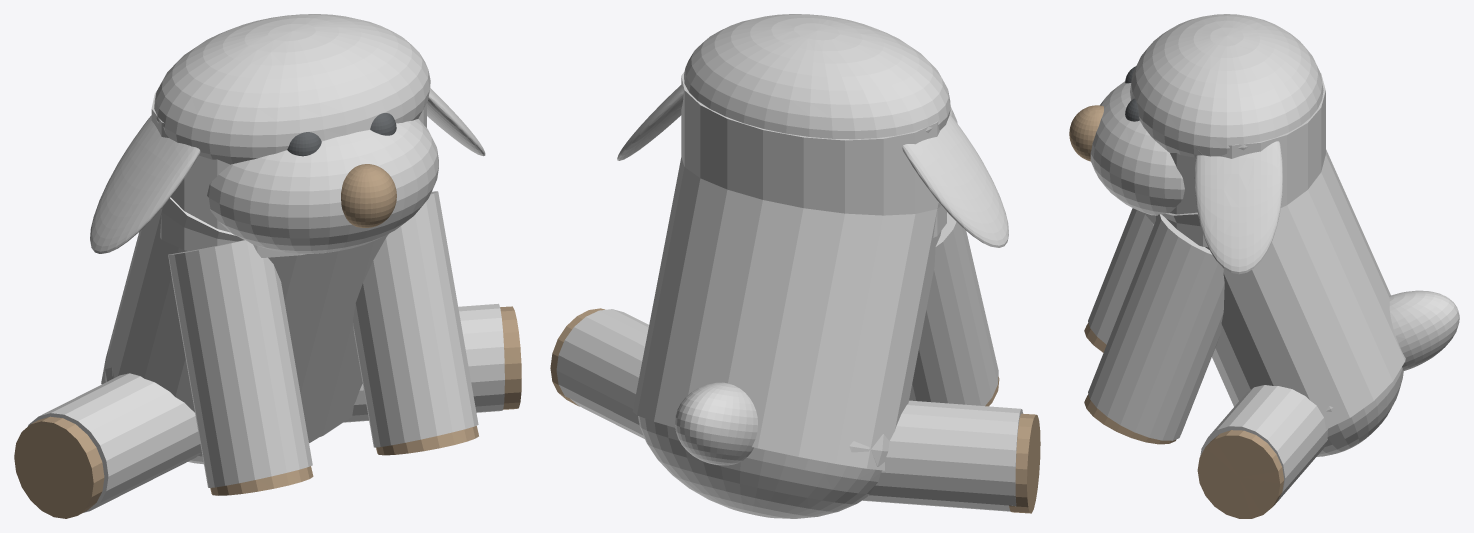
Rendered from subaru_1.glb.
3 views of the same model, side by side, from view 1: azimuth 30°, elevation 25°; view 2: azimuth 150°, elevation 25°; view 3: azimuth 270°, elevation 25° (orthographic). The views are drawn at different scales.
Parts seen in each view (by area): view 1: Mesh_Mesh_head_geo.001_lambert2SG.001; view 2: Mesh_Mesh_head_geo.001_lambert2SG.001; view 3: Mesh_Mesh_head_geo.001_lambert2SG.001.
Boxes of the visible parts, box(x1,y1,x2,y2) form: Mesh_Mesh_head_geo.001_lambert2SG.001: box(14, 14, 521, 518); Mesh_Mesh_head_geo.001_lambert2SG.001: box(550, 14, 1040, 518); Mesh_Mesh_head_geo.001_lambert2SG.001: box(1069, 14, 1459, 518).
Size of the model in its own units: 27.1 by 24 by 21.
